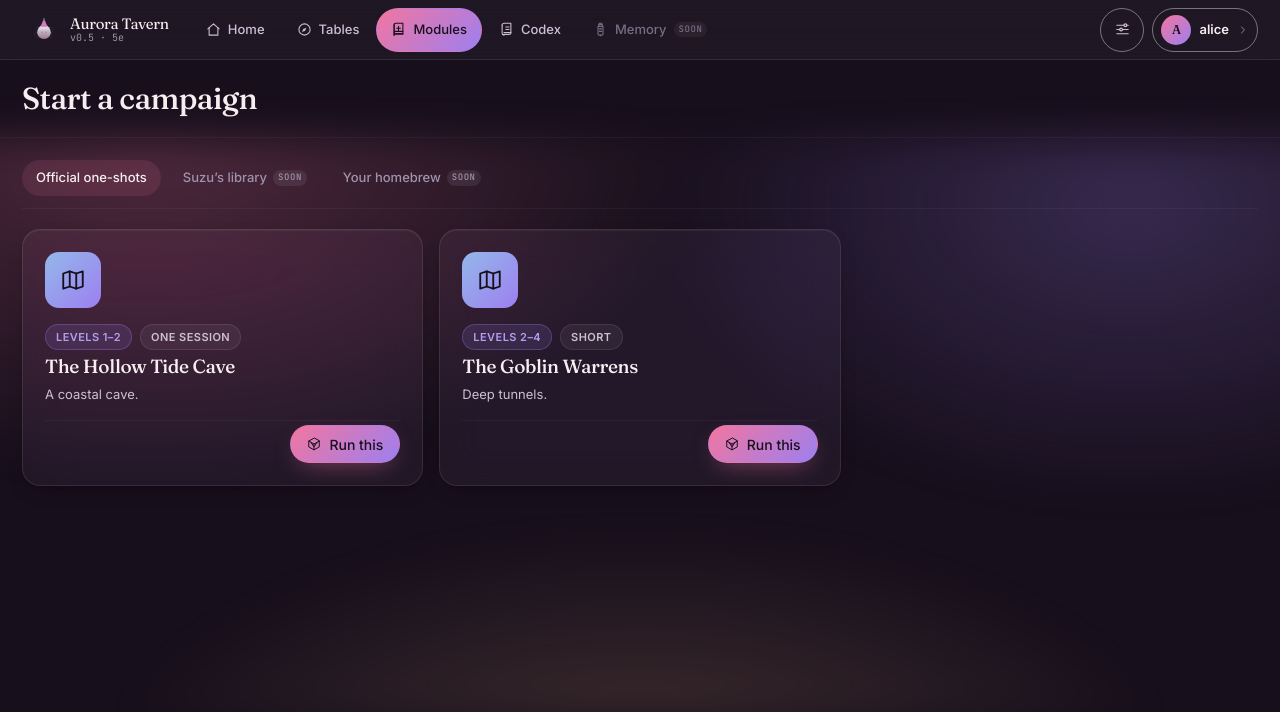
Iro MAJOR-2 — adventure-specific aria-label on Run this buttons › clicking the adventure-specific button opens the StarterForm for that adventure
The image size is (1280, 712).
Click the button with aria-label "run this — the goblin warrens" at (763, 444), box [708,425,818,463]
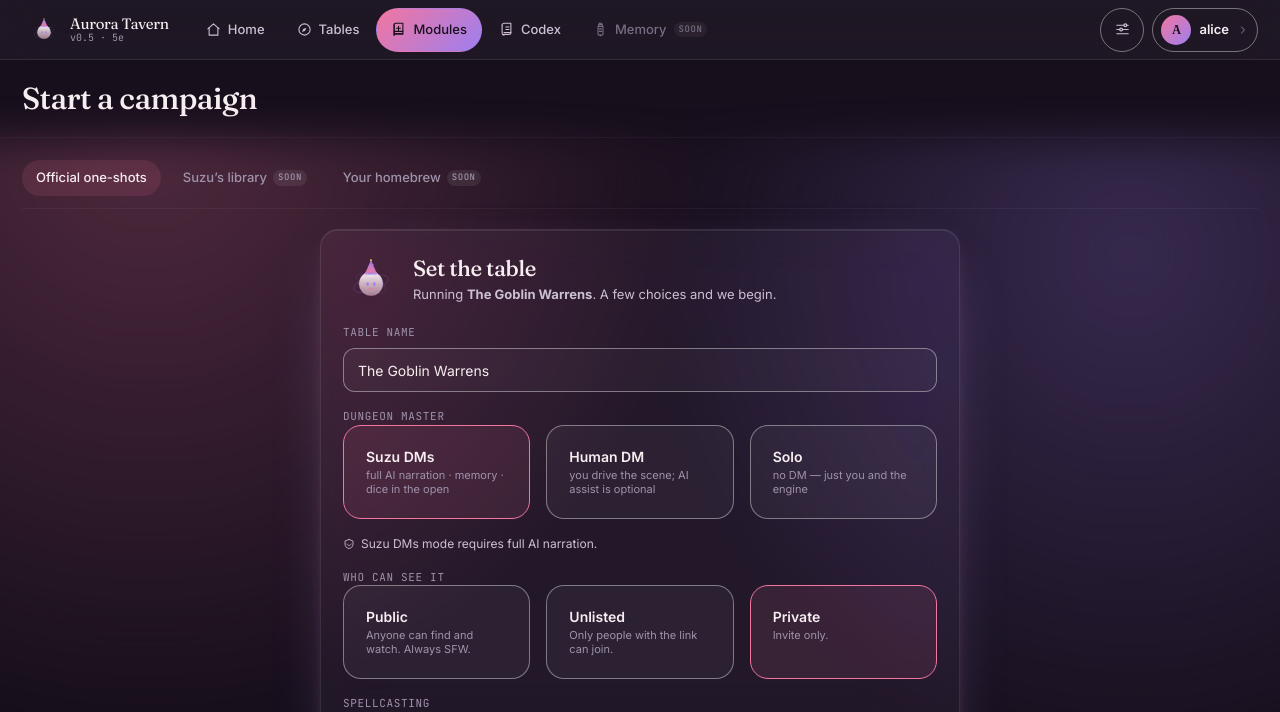
Expected: the text "The Goblin Warrens" is shown, [467,286,592,302]
Result: the heading "Set the table" is shown at [413,254,536,282]
